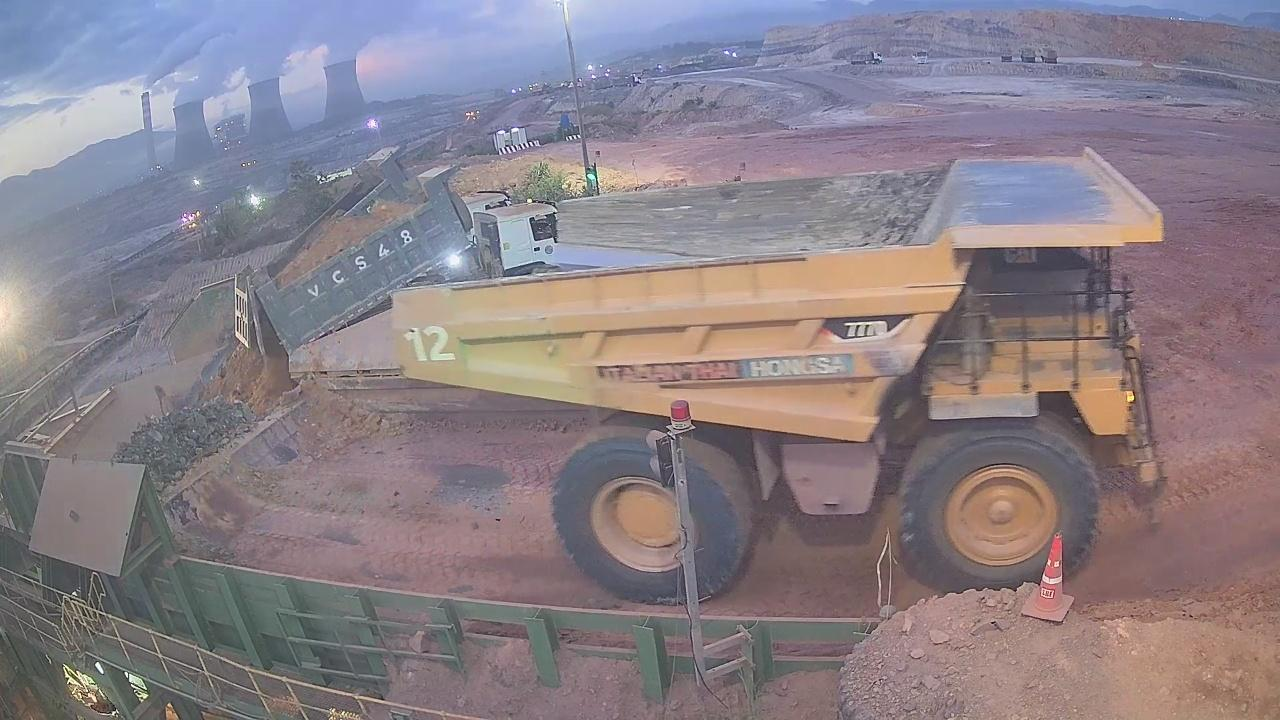company: (593, 347, 863, 386)
empty_load: (570, 172, 960, 263)
mining_truck: (385, 142, 1169, 606)
tail_number: (404, 321, 459, 369)
truck_size: (812, 304, 909, 342)
